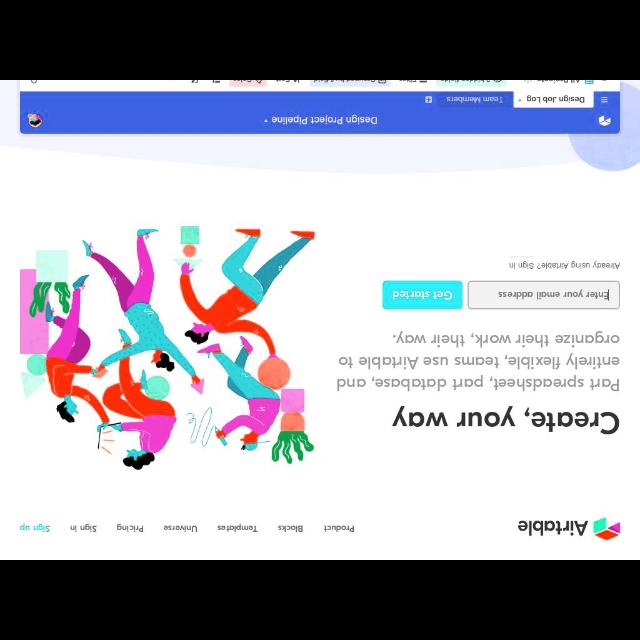image: (1, 224, 325, 481), (19, 81, 620, 135), (516, 516, 622, 544)
input: (468, 281, 620, 309)
text: (332, 330, 620, 392), (389, 401, 621, 437), (508, 258, 620, 272), (496, 290, 608, 302), (392, 288, 452, 302), (216, 524, 258, 534), (18, 522, 52, 534), (322, 523, 354, 535), (277, 522, 305, 534), (70, 523, 98, 535), (164, 524, 198, 532), (116, 524, 144, 532)
textbutton: (382, 280, 462, 310)
toolbar: (1, 514, 640, 560)
